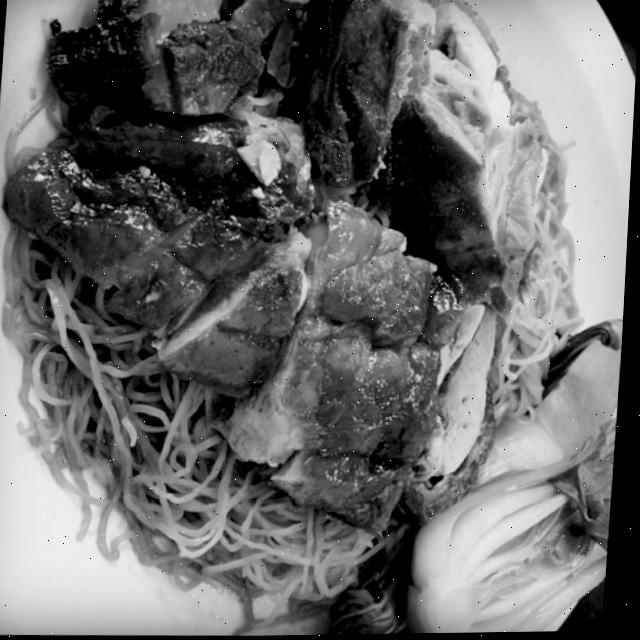烧串烤肉: (11, 10, 626, 608)
